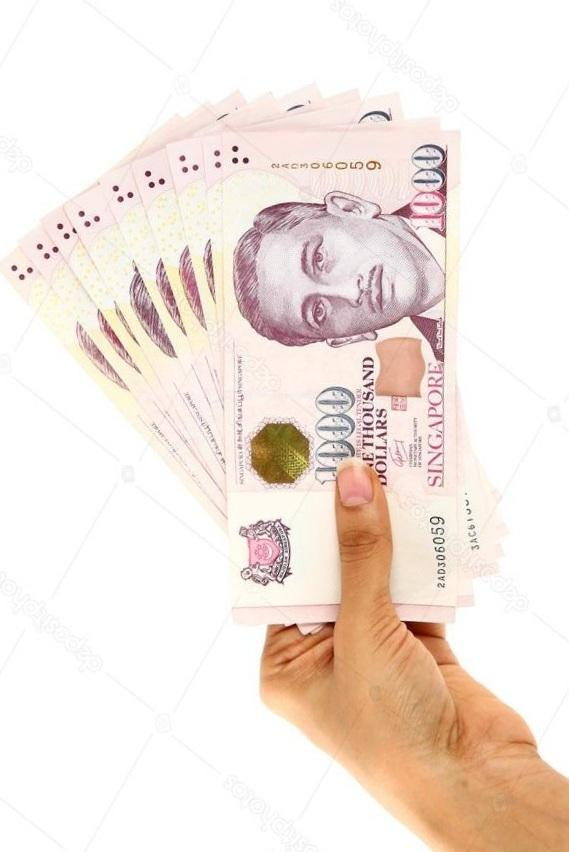1000SingaporeDollar: (232, 145, 452, 617)
